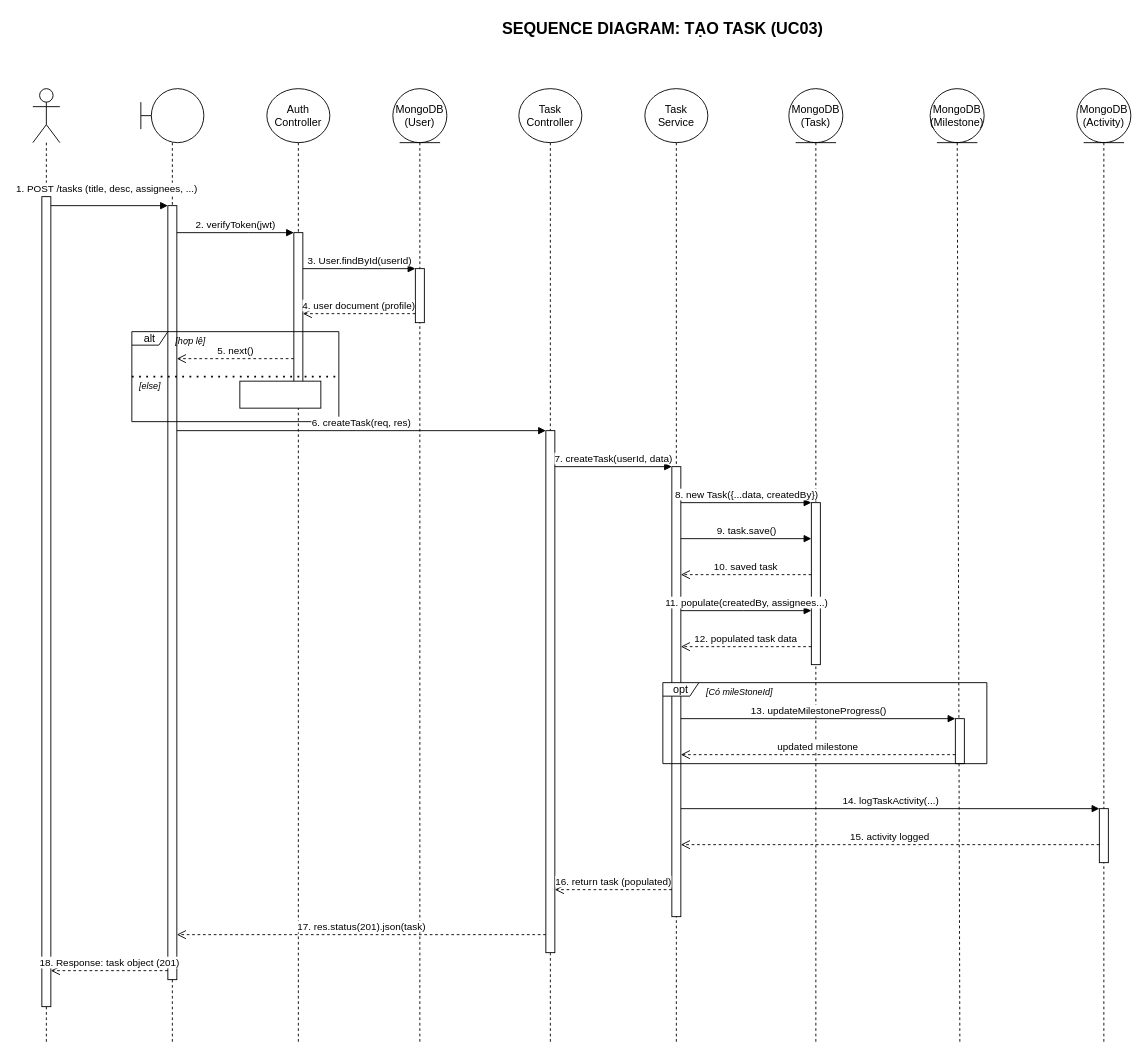
The diagram is 1147 pixels wide and 1059 high, and some of its shapes have lost their labels. Each missing label, with the centre of its shape:
Client (Browser): point 46,115
Error: "Not found": point 280,394
Server: point 172,115
